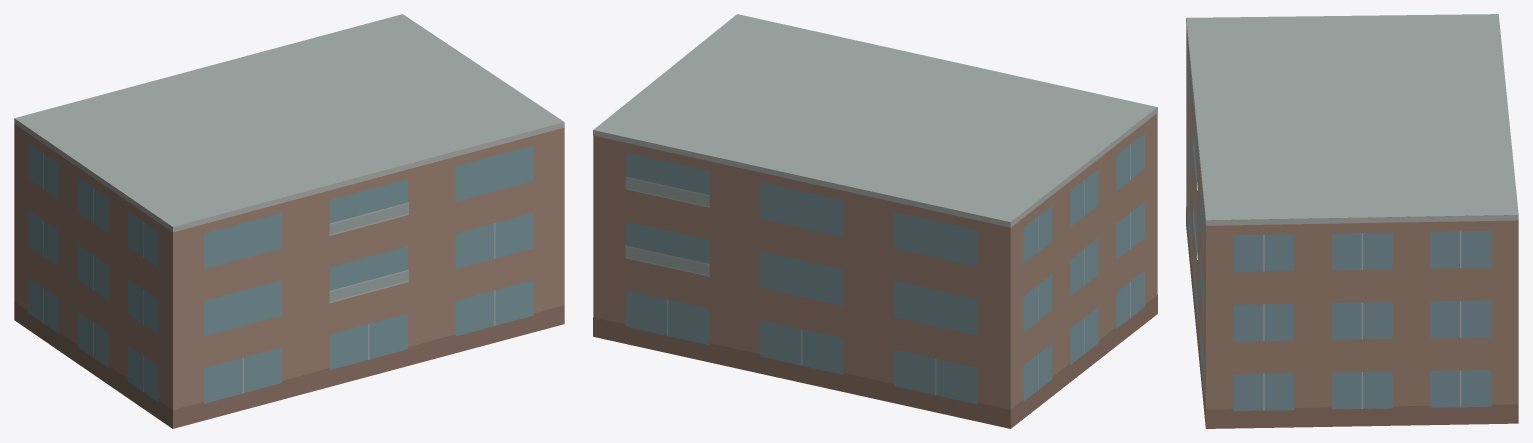
The model's file is survey-upis-32603124.glb.
3 renders of one model, left to right at view 1: azimuth 30°, elevation 25°; view 2: azimuth 150°, elevation 25°; view 3: azimuth 270°, elevation 25°, orthographic. The views are drawn at different scales.
Visible parts, largest first — view 1: survey-upis-32603124.tmp; view 2: survey-upis-32603124.tmp; view 3: survey-upis-32603124.tmp.
Boxes of the visible parts, left/top/right/bottom form: survey-upis-32603124.tmp: left=14, top=14, right=564, bottom=428; survey-upis-32603124.tmp: left=593, top=14, right=1157, bottom=428; survey-upis-32603124.tmp: left=1186, top=14, right=1518, bottom=428.
Size of the model in its own units: 19.4 by 9.15 by 13.22.
